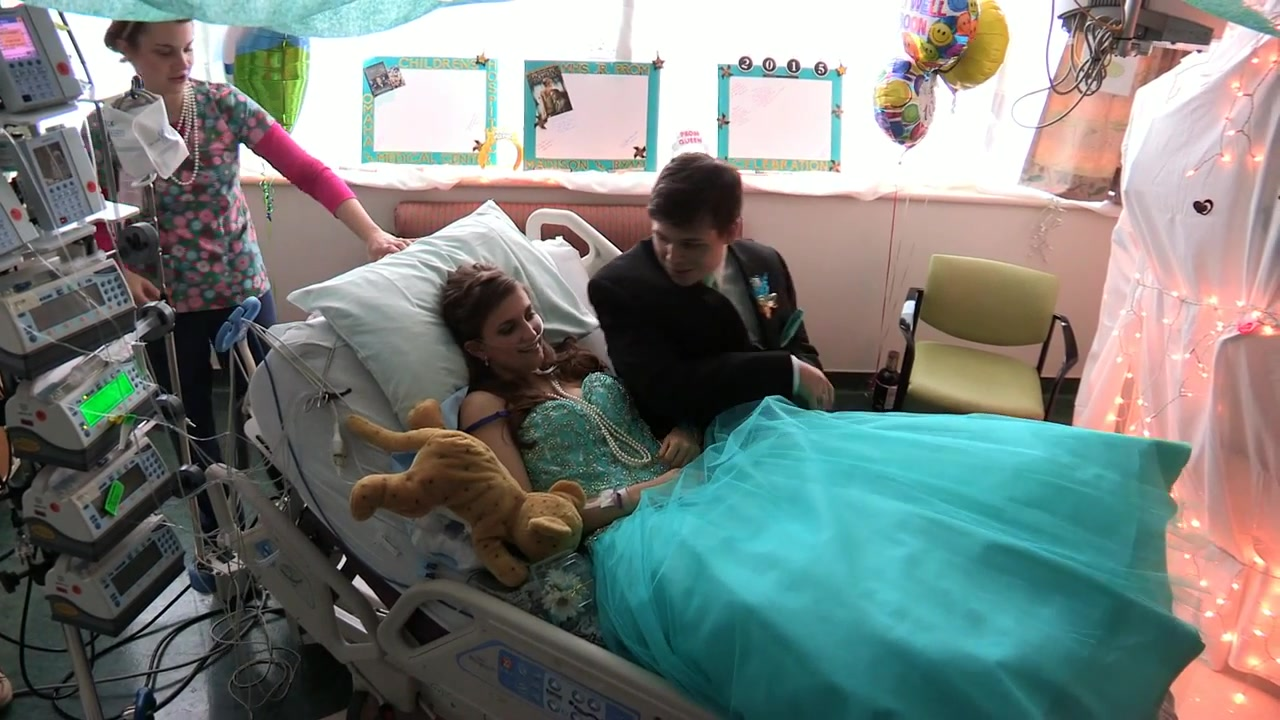bedrail: (378, 578, 735, 720), (203, 460, 382, 668), (524, 209, 624, 282)
chair: (898, 253, 1079, 422)
hospital_bed: (203, 199, 1177, 720)
infusion_pump: (13, 124, 110, 252), (1, 4, 82, 108)
iv_pole: (127, 74, 209, 609)
patient: (440, 263, 1204, 720)
sofa: (395, 204, 745, 256)
staff: (80, 1, 418, 594)
syringe_pump: (20, 521, 179, 638), (20, 440, 177, 552), (1, 357, 158, 468), (1, 264, 138, 372)
visitor: (587, 152, 836, 454)
